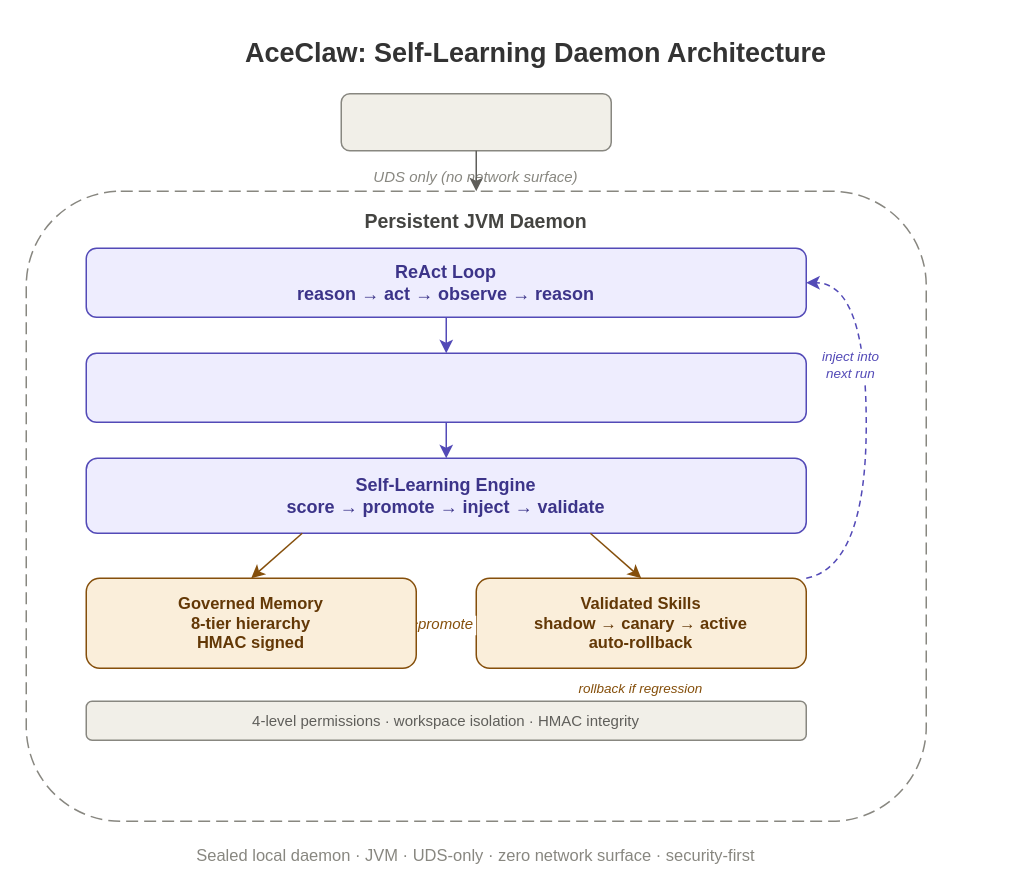
The diagram is 1013 pixels wide and 891 high, and some of its shapes have lost their labels. The centre of each missing label's shape, as x and y in pixels:
Behavior Detectors errors · recoveries · patterns · user corrections: the point at 445,387
CLI / REPL: the point at 475,121
